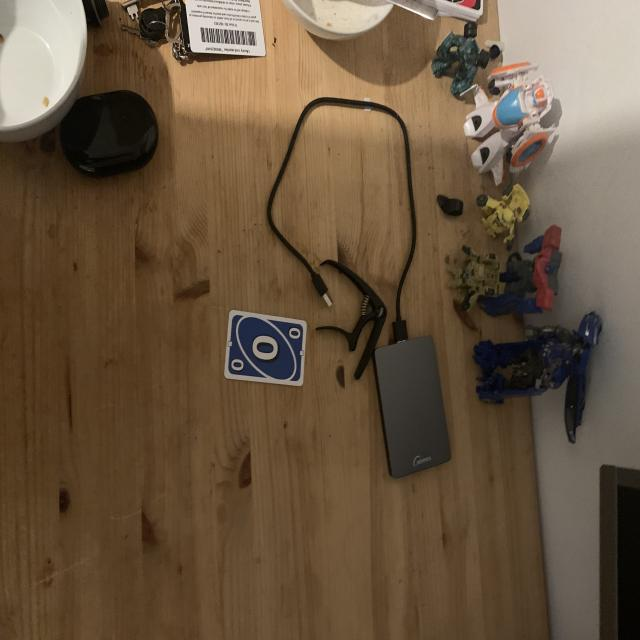lblue-0: (285, 323, 304, 345)
